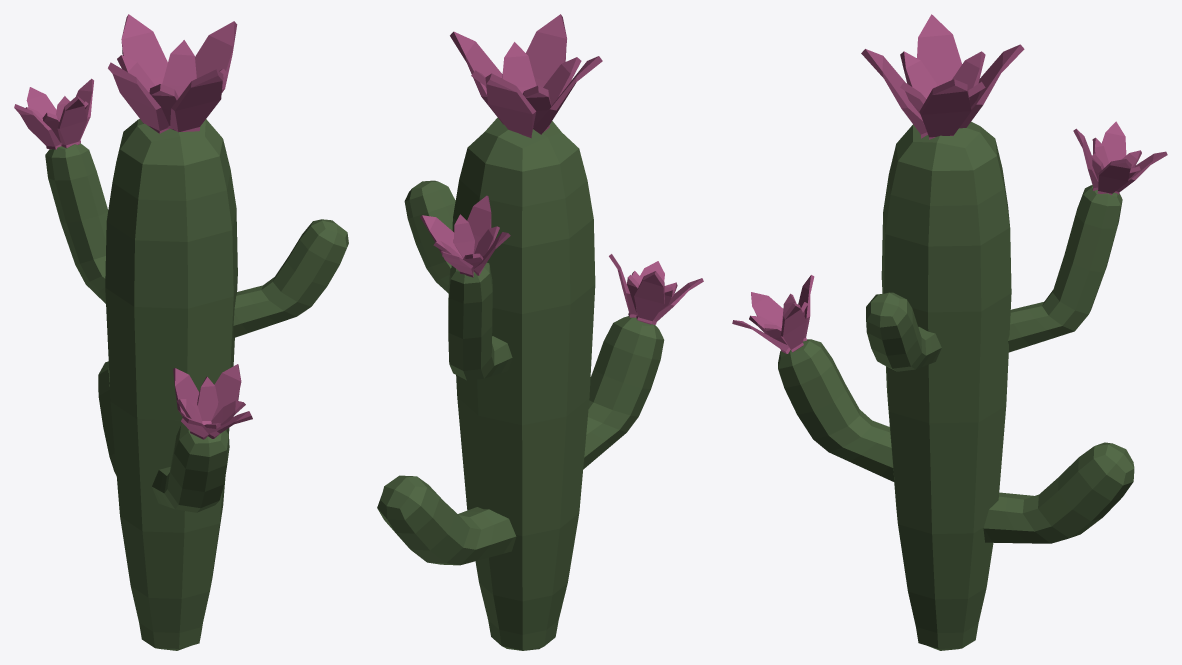
Rendered from cactus_flower2.glb.
3 views of the same model, side by side, from view 1: azimuth 30°, elevation 25°; view 2: azimuth 150°, elevation 25°; view 3: azimuth 270°, elevation 25° (orthographic).
Visible parts, largest first — view 1: CactusFlowers_2; view 2: CactusFlowers_2; view 3: CactusFlowers_2.
Boxes of the visible parts, x1=… form: CactusFlowers_2: x1=14, y1=14, x2=348, y2=650; CactusFlowers_2: x1=377, y1=14, x2=703, y2=650; CactusFlowers_2: x1=732, y1=14, x2=1167, y2=650.
Size of the model in its own units: 0.7654 by 1.94 by 1.28.
